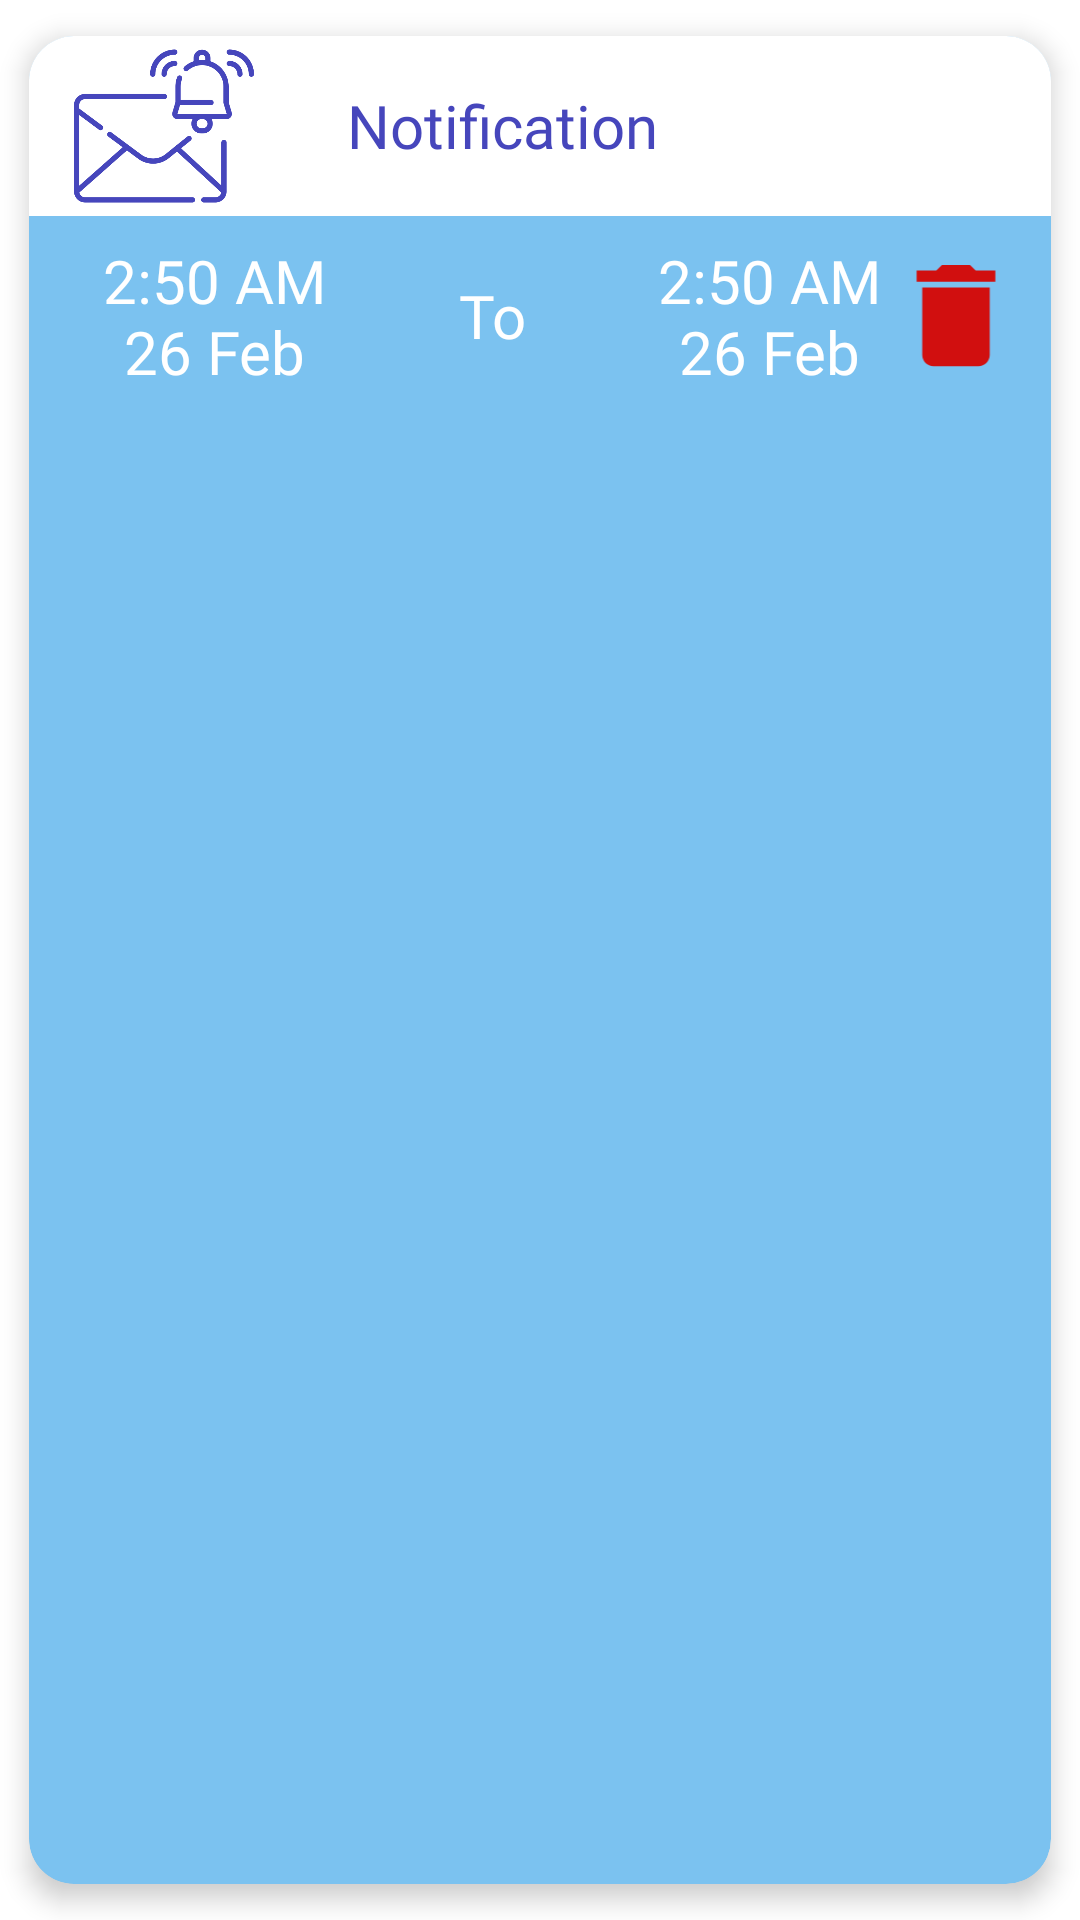

Where icons sit on this 1080w x 1920h app screen, as (x1, y1, x2, y2):
Alarm: (74, 49, 254, 203)
Delete alert: (916, 265, 996, 367)
